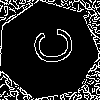C: (23, 25, 76, 69)
